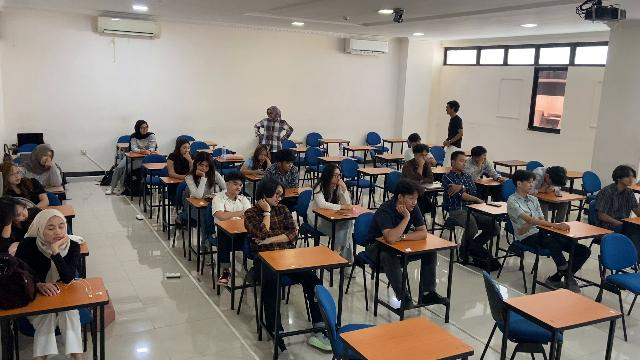bosan: (46, 222, 65, 241), (405, 190, 419, 211), (271, 184, 283, 206), (15, 204, 29, 222), (9, 166, 21, 184), (41, 150, 53, 166), (332, 169, 344, 184), (457, 156, 467, 172), (231, 180, 242, 194), (622, 172, 633, 186), (197, 161, 210, 172), (418, 150, 428, 164), (525, 178, 533, 192), (283, 160, 293, 171), (182, 143, 190, 155), (259, 151, 267, 161)
